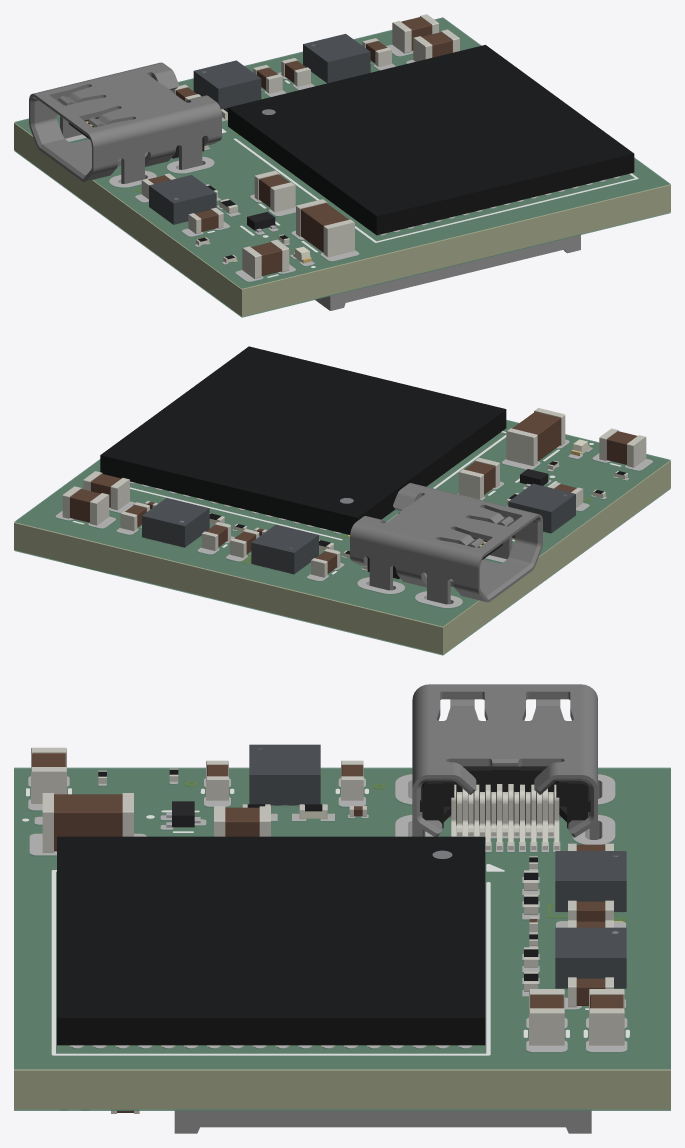
The model's file is FPGA_V41_Interactive.glb.
The picture shows the model from 3 angles, top to bottom: view 1: azimuth 30°, elevation 25°; view 2: azimuth 150°, elevation 25°; view 3: azimuth 270°, elevation 25°; orthographic projection. The views are drawn at different scales.
Visible parts, largest first — view 1: U1, FPGA35T_Scratch_Step41_Abracon_Clock_Routing_PCB, FPGA35T_Scratch_Step41_Abracon_Clock_Routing_soldermask (×2), J3, J2, FPGA35T_Scratch_Step41_Abracon_Clock_Routing_pad, U4, C4, U3, U2, C10, C59 (+7 smaller); view 2: U1, FPGA35T_Scratch_Step41_Abracon_Clock_Routing_PCB, FPGA35T_Scratch_Step41_Abracon_Clock_Routing_soldermask (×2), J3, FPGA35T_Scratch_Step41_Abracon_Clock_Routing_pad, U3, U4, C4, U2, C15, C10, C59 (+6 smaller); view 3: U1, FPGA35T_Scratch_Step41_Abracon_Clock_Routing_PCB, FPGA35T_Scratch_Step41_Abracon_Clock_Routing_soldermask (×2), J3, J1, FPGA35T_Scratch_Step41_Abracon_Clock_Routing_pad, U2, C4, U4, U3, FPGA35T_Scratch_Step41_Abracon_Clock_Routing_silkscreen, C42 (+8 smaller).
Boxes of the visible parts, x1,y1,x2,y2 form: U1: (228,45,634,235); FPGA35T_Scratch_Step41_Abracon_Clock_Routing_PCB: (14,19,670,316); FPGA35T_Scratch_Step41_Abracon_Clock_Routing_soldermask (×2): (14,17,670,317); J3: (29,62,221,183); J2: (315,235,580,310); FPGA35T_Scratch_Step41_Abracon_Clock_Routing_pad: (65,44,619,281); U4: (303,33,370,83); C4: (296,199,354,257); U3: (193,60,261,109); U2: (149,175,216,224); C10: (242,239,289,278); C59: (254,170,295,212); U1: (100,346,506,534); FPGA35T_Scratch_Step41_Abracon_Clock_Routing_PCB: (14,421,670,654); FPGA35T_Scratch_Step41_Abracon_Clock_Routing_soldermask (×2): (14,420,670,655); J3: (350,483,542,604); FPGA35T_Scratch_Step41_Abracon_Clock_Routing_pad: (55,439,652,608); U3: (251,524,318,574); U4: (142,498,209,547); C4: (506,408,565,466); U2: (508,483,575,533); C15: (62,486,109,525); C10: (599,428,646,467); C59: (458,457,499,499); U1: (57,836,485,1045); FPGA35T_Scratch_Step41_Abracon_Clock_Routing_PCB: (14,769,670,1109); FPGA35T_Scratch_Step41_Abracon_Clock_Routing_soldermask (×2): (14,767,670,1110); J3: (412,684,597,849); J1: (174,1110,591,1133); FPGA35T_Scratch_Step41_Abracon_Clock_Routing_pad: (28,774,627,1052); U2: (249,744,320,805); C4: (42,793,133,852); U4: (555,927,626,988); U3: (555,851,626,911); FPGA35T_Scratch_Step41_Abracon_Clock_Routing_silkscreen: (22,788,629,1055); C42: (529,989,564,1045).
Size of the model in its own units: 0.0256 by 0.00603 by 0.023.
